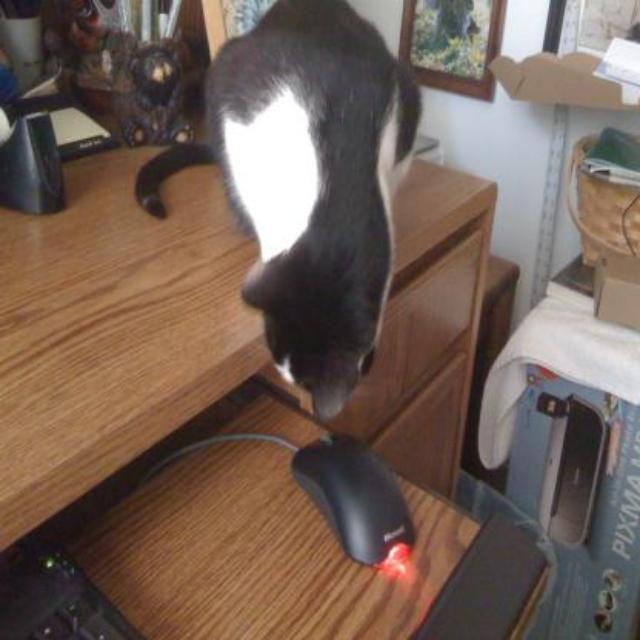Computer-Mouse: (276, 417, 442, 589)
